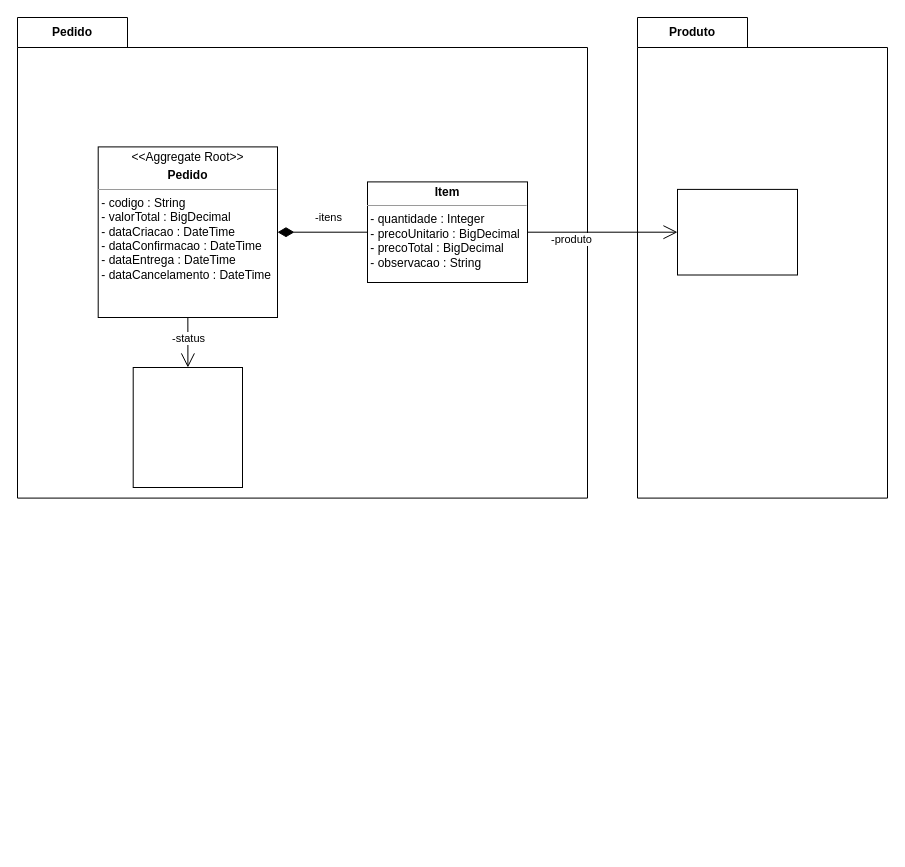
The diagram is 905 pixels wide and 867 high, and some of its shapes have lost their labels. Each missing label, with the centre of its shape:
<<enumeration>> Status CRIADO CONFIRMADO ENTREGUE CANCELADO: point (187, 427)
Produto - descricao : String - preco : BigDecimal - ativo : Boolean: point (737, 231)
